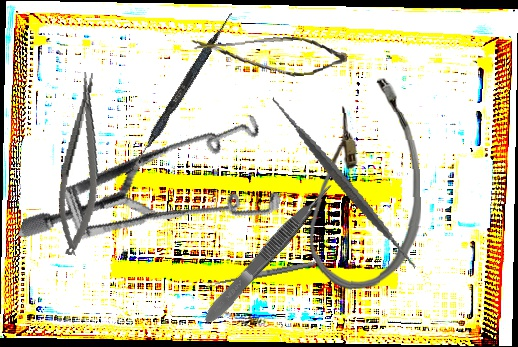Cannula: (304, 77, 424, 291)
Micro Scissor: (190, 24, 349, 87)
Needle Holder: (49, 70, 114, 258)
Spatula Surgical: (245, 82, 443, 283), (125, 8, 234, 181)
Speculum: (18, 58, 303, 310)
Surgical Spoon: (206, 260, 317, 288)
Tissue Forceps: (198, 179, 340, 328)
